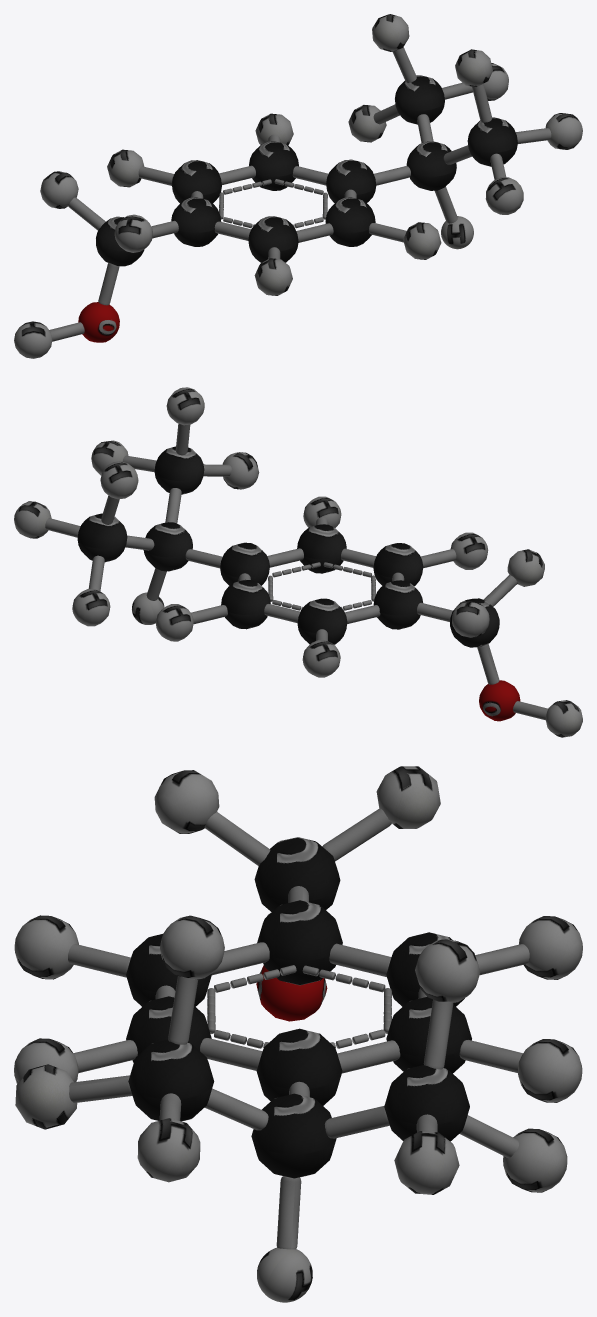
The model's file is Isopropylphenyl_methanol.gltf.
3 renders of one model, top to bottom at view 1: azimuth 30°, elevation 25°; view 2: azimuth 150°, elevation 25°; view 3: azimuth 270°, elevation 25°, orthographic. The views are drawn at different scales.
Parts seen in each view (by area): view 1: C_Atom_040, C_Atom_037, C_Atom_032, C_Atom_033, C_Atom_041, C_Atom_036, C_Atom_039, C_Atom_035, C_Atom_042, C_Atom_038, C_Atom_034, H_Atom_047 (+26 smaller); view 2: C_Atom_037, C_Atom_039, C_Atom_032, C_Atom_041, C_Atom_033, C_Atom_040, C_Atom_042, C_Atom_035, C_Atom_036, C_Atom_038, H_Atom_044, H_Atom_040 (+19 smaller); view 3: C_Atom_032, C_Atom_041, C_Atom_037, C_Atom_033, C_Atom_035, C_Atom_034, C_Atom_039, H_Atom_053, H_Atom_040, H_Atom_044, H_Atom_042, H_Atom_043 (+30 smaller).
Boxes of the visible parts, box(x1,y1,x2,y2) form: C_Atom_040: box(325, 197, 375, 246); C_Atom_037: box(171, 197, 221, 246); C_Atom_032: box(406, 141, 456, 190); C_Atom_033: box(395, 75, 444, 124); C_Atom_041: box(467, 117, 517, 166); C_Atom_036: box(248, 216, 298, 262); C_Atom_039: box(249, 141, 298, 190); C_Atom_035: box(326, 159, 376, 202); C_Atom_042: box(171, 160, 221, 203); C_Atom_038: box(78, 302, 119, 342); C_Atom_034: box(96, 216, 144, 266); H_Atom_047: box(485, 177, 523, 214); C_Atom_037: box(373, 580, 422, 629); C_Atom_039: box(221, 579, 270, 629); C_Atom_032: box(143, 522, 192, 571); C_Atom_041: box(154, 446, 204, 494); C_Atom_033: box(77, 513, 127, 562); C_Atom_040: box(297, 524, 346, 573); C_Atom_042: box(297, 598, 347, 644); C_Atom_035: box(220, 542, 269, 585); C_Atom_036: box(373, 543, 423, 586); C_Atom_038: box(479, 680, 520, 721); H_Atom_044: box(100, 461, 138, 499); H_Atom_040: box(166, 387, 204, 425); C_Atom_032: box(251, 1093, 336, 1178); C_Atom_041: box(128, 1039, 214, 1121); C_Atom_037: box(257, 900, 342, 985); C_Atom_033: box(384, 1065, 469, 1141); C_Atom_035: box(256, 1028, 342, 1105); C_Atom_034: box(254, 837, 340, 911); C_Atom_039: box(386, 996, 471, 1073); H_Atom_053: box(518, 1039, 582, 1102); H_Atom_040: box(160, 915, 224, 979); H_Atom_044: box(415, 939, 480, 1002); H_Atom_042: box(137, 1118, 200, 1182); H_Atom_043: box(394, 1131, 459, 1194).
Bounding box in the file's own units: 2.54 × 1.04 × 1.39.
4 materials, 4 textured.
